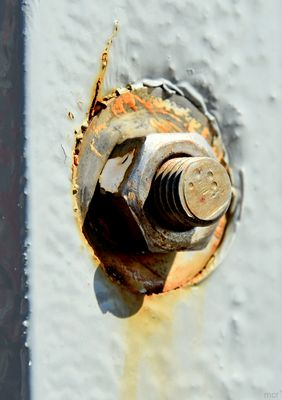bolt_b: (96, 128, 232, 255)
